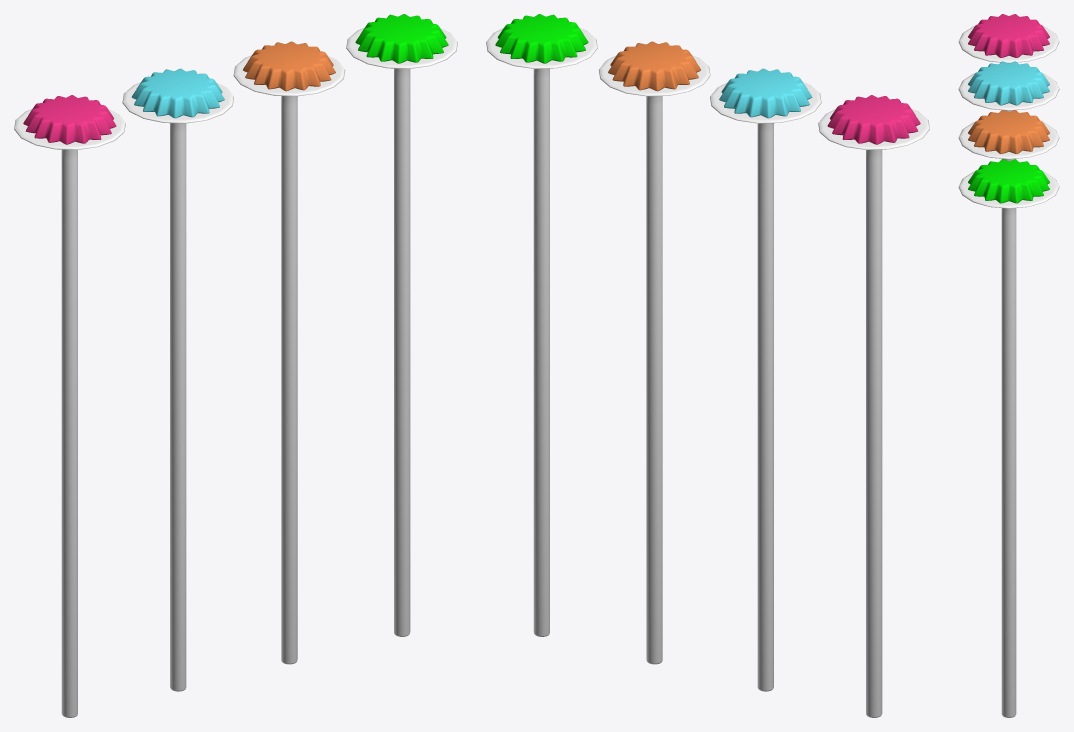
Rendered from Bounces.fbx.
3 views of the same model, side by side, from view 1: azimuth 30°, elevation 25°; view 2: azimuth 150°, elevation 25°; view 3: azimuth 270°, elevation 25° (orthographic). The views are drawn at different scales.
Parts seen in each view (by area): view 1: Mush.011, Mush.009, Mush.001, Mush.010; view 2: Mush.011, Mush.009, Mush.001, Mush.010; view 3: Mush.010, Mush.011, Mush.009, Mush.001.
Boxes of the visible parts, x1=… form: Mush.011: x1=233, y1=41, x2=345, y2=664; Mush.009: x1=122, y1=68, x2=233, y2=691; Mush.001: x1=14, y1=95, x2=125, y2=717; Mush.010: x1=346, y1=14, x2=457, y2=636; Mush.011: x1=598, y1=41, x2=710, y2=664; Mush.009: x1=710, y1=68, x2=821, y2=691; Mush.001: x1=818, y1=95, x2=929, y2=717; Mush.010: x1=486, y1=14, x2=597, y2=636; Mush.010: x1=958, y1=159, x2=1059, y2=717; Mush.011: x1=958, y1=110, x2=1059, y2=161; Mush.009: x1=958, y1=61, x2=1059, y2=111; Mush.001: x1=958, y1=14, x2=1059, y2=63.
Size of the model in its own units: 1027 by 1382 by 233.
